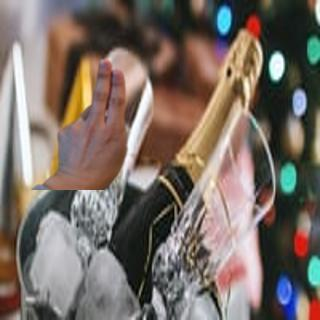DHAVE: (50, 54, 132, 183)
